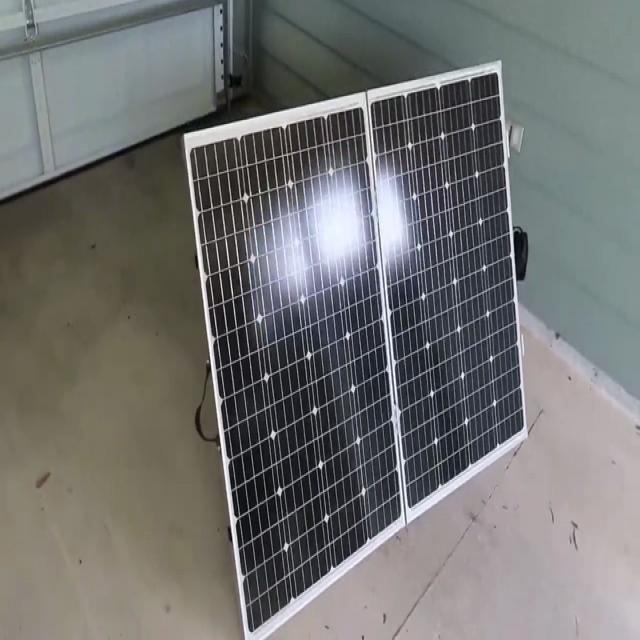Normal Solar Panel: (186, 63, 526, 635)
